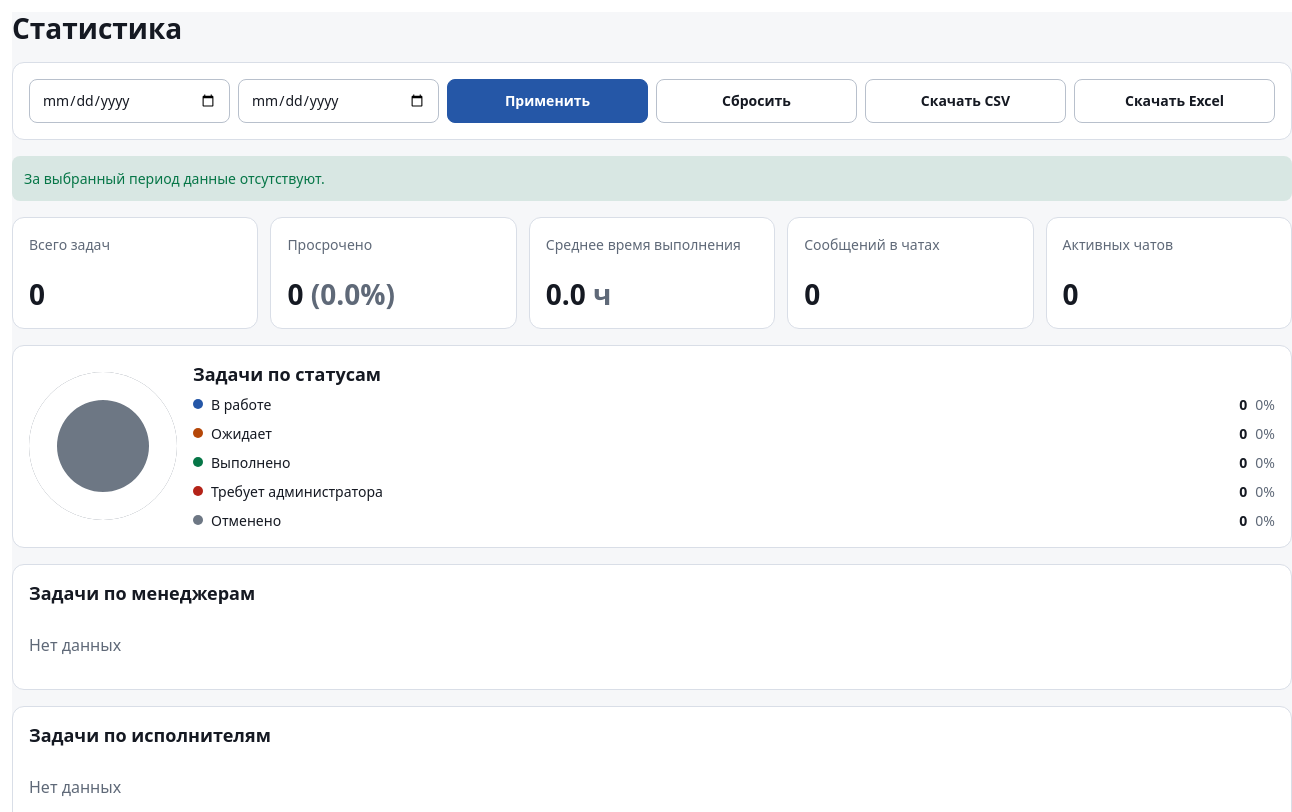
Scenario: StatisticsPage export validation › explains that export requires both dates before sending the request
Expected: the text "За выбранный период данные отсутствуют." is shown, top-left (12, 156), bottom-right (1291, 201)
Step 1. Click the button "Скачать CSV" → (966, 101), box top-left (865, 79), bottom-right (1066, 123)
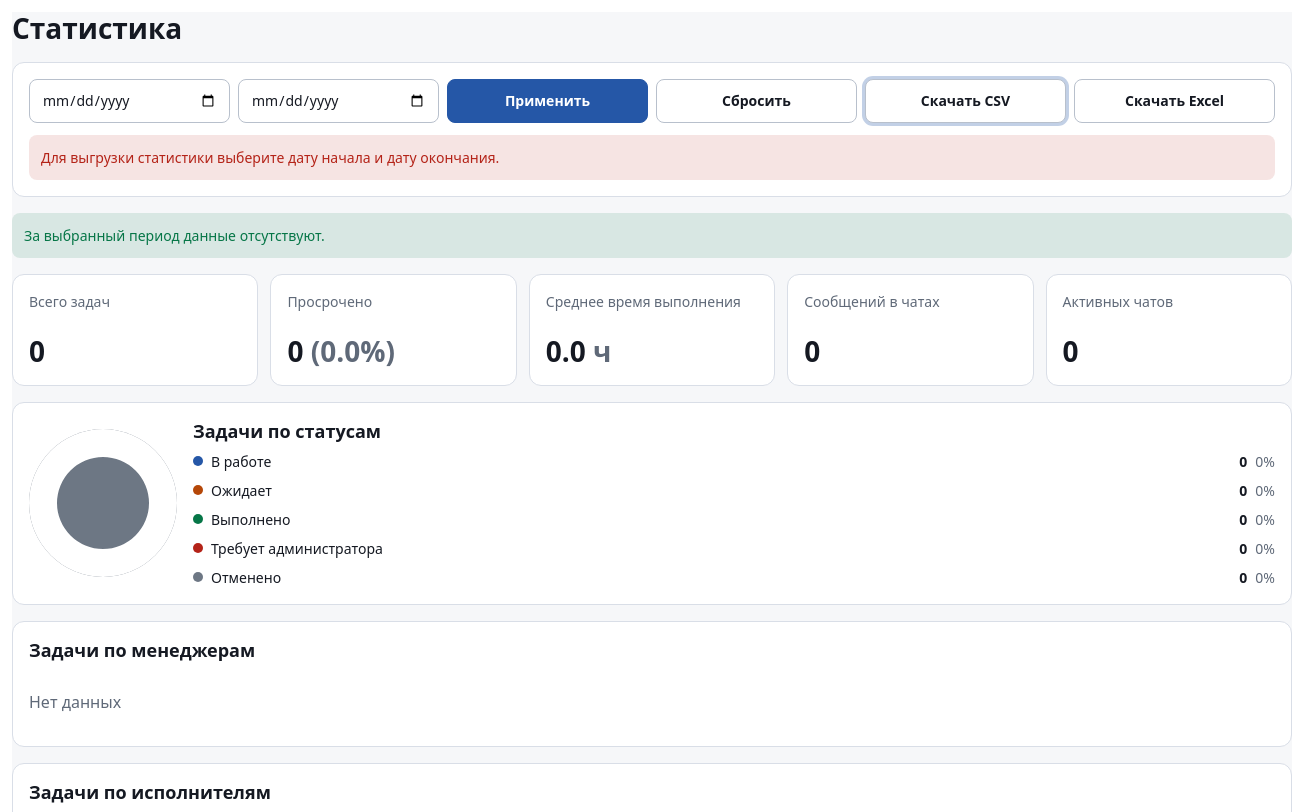
Now the message "Для выгрузки статистики выберите дату начала и дату окончания." is shown, box top-left (29, 135), bottom-right (1275, 180)
